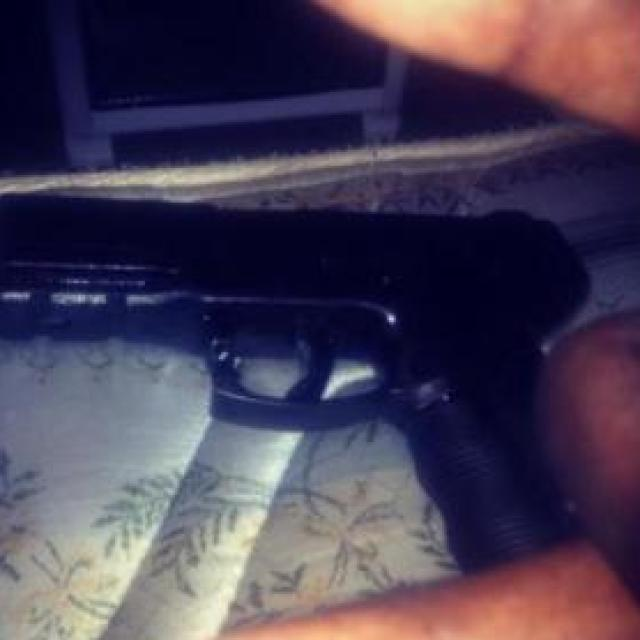pistol: (0, 191, 601, 580)
